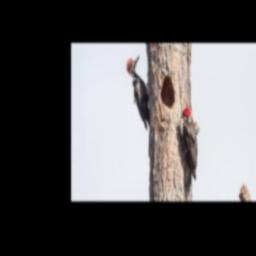Woodpecker: (126, 54, 150, 130), (180, 107, 198, 201)
